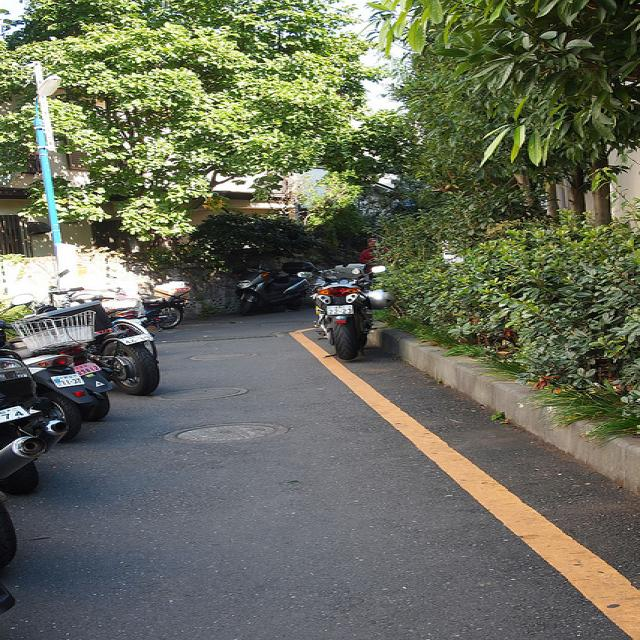motor: (26, 290, 159, 396), (280, 260, 401, 360), (0, 349, 69, 498), (17, 349, 96, 442), (58, 346, 115, 425), (236, 260, 308, 315), (141, 296, 181, 329)
